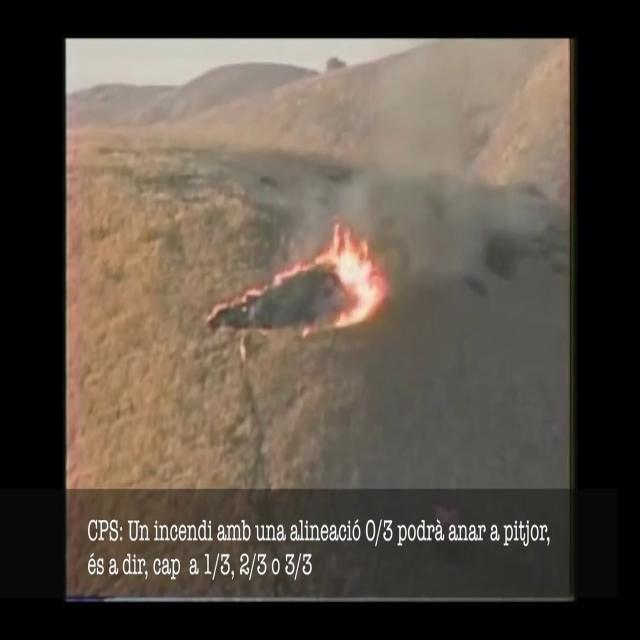Fire: (307, 212, 389, 328)
Smoke: (276, 38, 560, 270)
